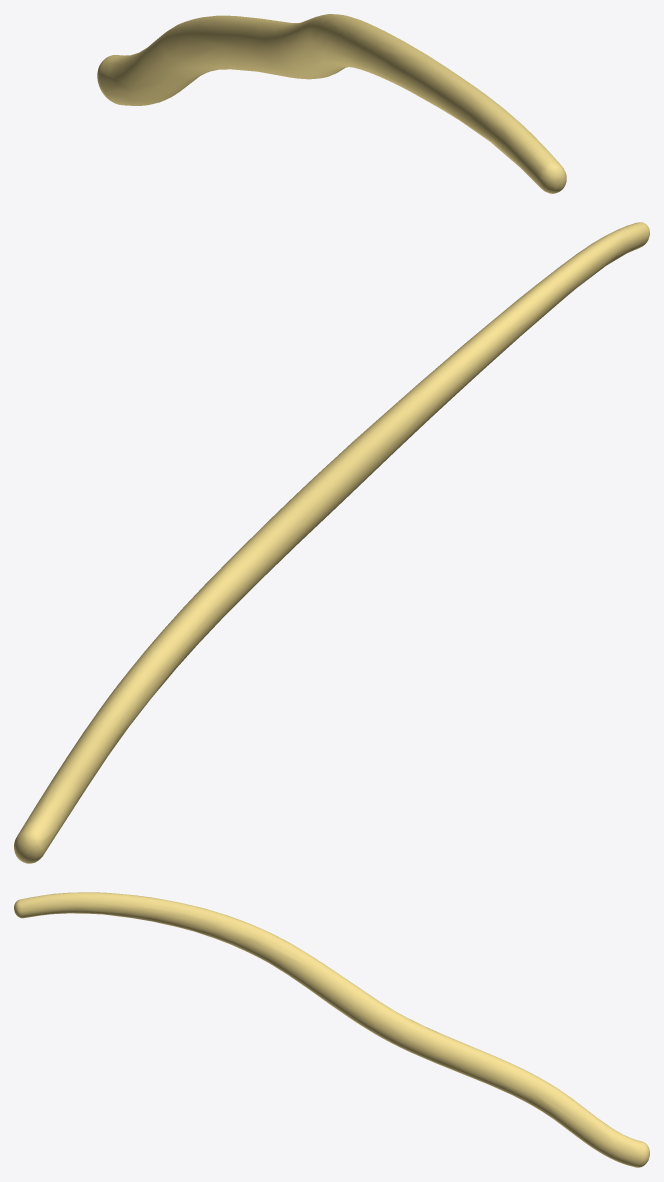
The model's file is fma52639_fj4008.glb.
The picture shows the model from 3 angles, top to bottom: view 1: azimuth 30°, elevation 25°; view 2: azimuth 150°, elevation 25°; view 3: azimuth 270°, elevation 25°; orthographic projection. The views are drawn at different scales.
Parts seen in each view (by area): view 1: FMA52639_FJ4008; view 2: FMA52639_FJ4008; view 3: FMA52639_FJ4008.
Boxes of the visible parts, <box> form: FMA52639_FJ4008: <box>97,14,566,193</box>; FMA52639_FJ4008: <box>14,222,649,863</box>; FMA52639_FJ4008: <box>14,892,649,1167</box>.
Bounding box in the file's own units: 0.00835 × 0.0164 × 0.0415.
